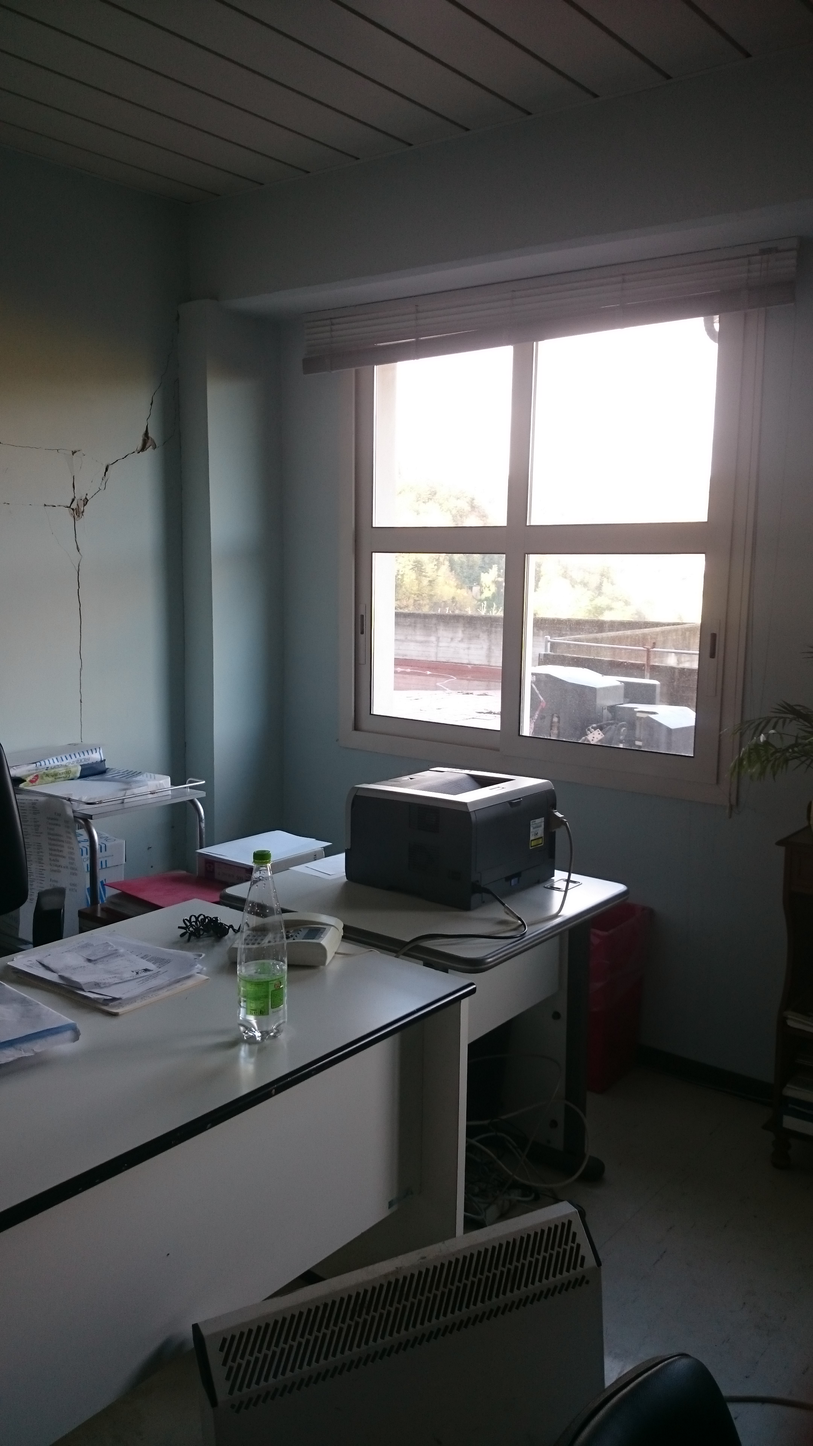Crack: (12, 304, 177, 864)
Other damage/mechanism: (2, 287, 184, 868)
